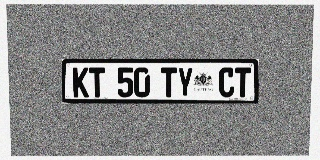0: (134, 67, 150, 97)
5: (117, 67, 133, 97)
C: (219, 67, 235, 97)
K: (73, 67, 89, 97)
T: (89, 67, 105, 97), (161, 67, 177, 97), (235, 67, 251, 97)
Y: (177, 67, 193, 97)
